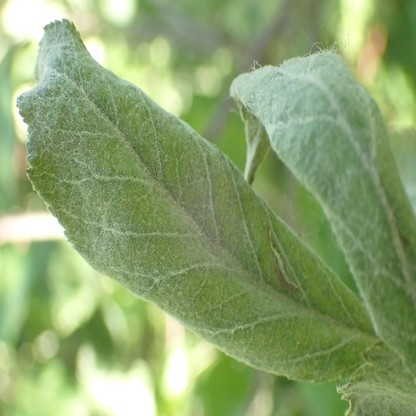powdery_mildew: (16, 20, 295, 331), (231, 51, 416, 304), (337, 341, 416, 415)
